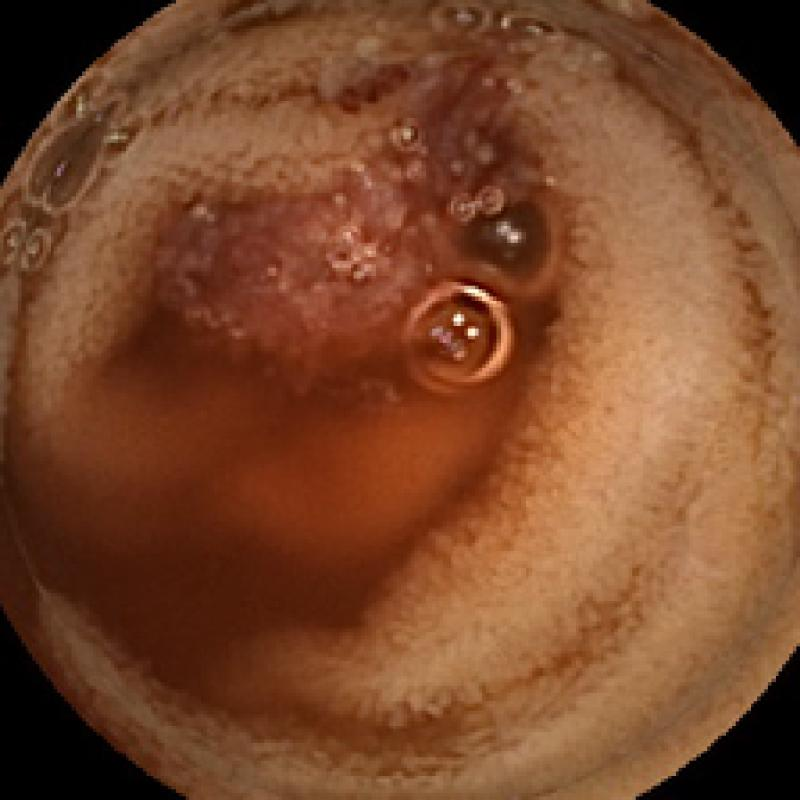bleeding: (168, 57, 536, 350)
